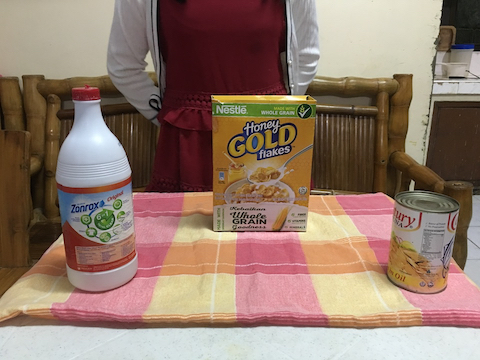bottle: (56, 85, 142, 293)
box: (206, 90, 317, 238)
can: (384, 185, 464, 297)
